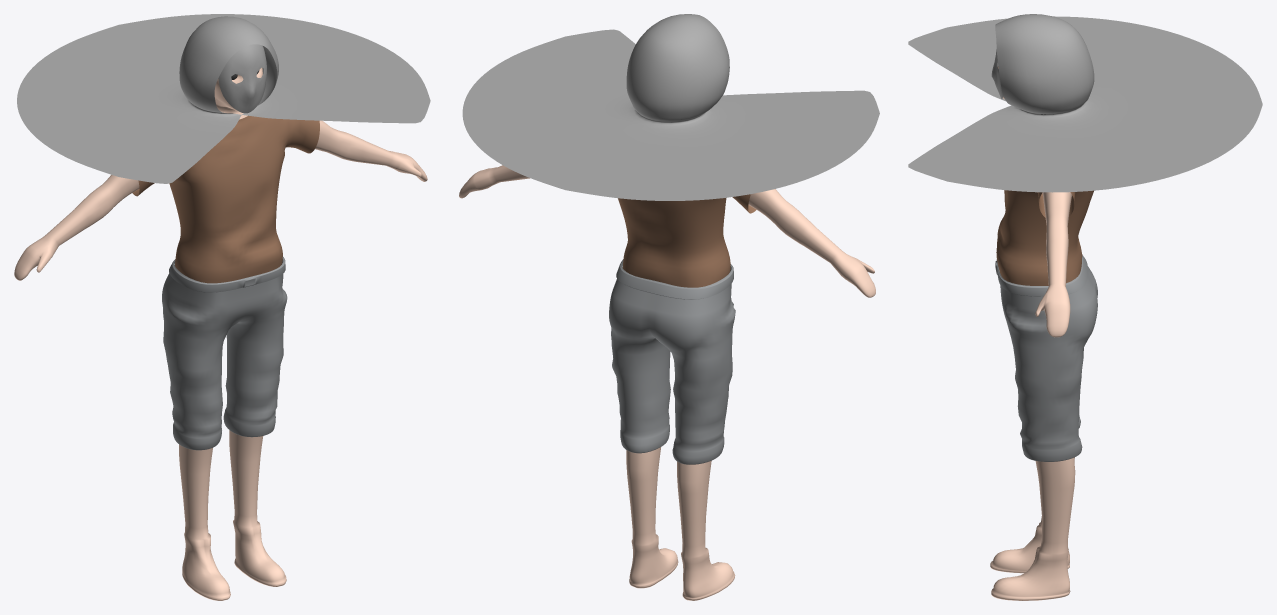
The model's file is cha blender cloting.fbx.
3 renders of one model, left to right at view 1: azimuth 30°, elevation 25°; view 2: azimuth 150°, elevation 25°; view 3: azimuth 270°, elevation 25°, orthographic.
Visible parts, largest first — view 1: hood, highpoly02:pants2, shirt_shirt1merged, highpoly02:skin1, pDisc1; view 2: hood, highpoly02:pants2, highpoly02:skin1, shirt_shirt1merged; view 3: hood, highpoly02:pants2, highpoly02:skin1, shirt_shirt1merged.
Part boxes in pixels (left/top/right/bottom): hood: left=17, top=14, right=430, bottom=183; highpoly02:pants2: left=162, top=257, right=287, bottom=450; shirt_shirt1merged: left=132, top=115, right=319, bottom=283; highpoly02:skin1: left=14, top=67, right=427, bottom=600; pDisc1: left=218, top=44, right=266, bottom=113; hood: left=462, top=14, right=879, bottom=200; highpoly02:pants2: left=609, top=259, right=735, bottom=464; highpoly02:skin1: left=459, top=165, right=875, bottom=600; shirt_shirt1merged: left=618, top=194, right=756, bottom=287; hood: left=908, top=14, right=1262, bottom=192; highpoly02:pants2: left=995, top=255, right=1097, bottom=461; highpoly02:skin1: left=990, top=66, right=1075, bottom=600; shirt_shirt1merged: left=996, top=190, right=1093, bottom=285.
Bounding box in the file's own units: 22.09 × 28.69 × 16.38.
